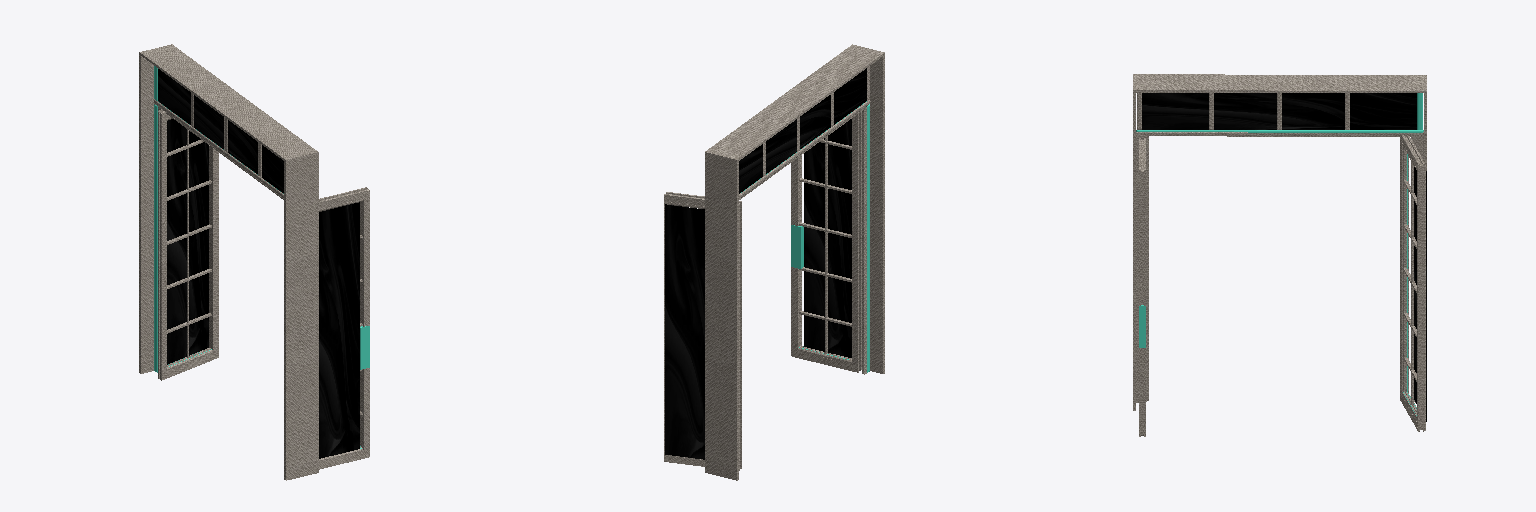
3 views of the same model, side by side, from view 1: azimuth 30°, elevation 25°; view 2: azimuth 150°, elevation 25°; view 3: azimuth 270°, elevation 25° (orthographic).
Parts seen in each view (by area): view 1: puerta002; view 2: puerta002; view 3: puerta002.
Part boxes in pixels (left/top/right/bottom): puerta002: left=139, top=44, right=369, bottom=480; puerta002: left=664, top=44, right=884, bottom=480; puerta002: left=1133, top=74, right=1426, bottom=436.
Size of the model in its own units: 15.22 by 53.61 by 44.61.
Materials: 3 (2 with a texture image).